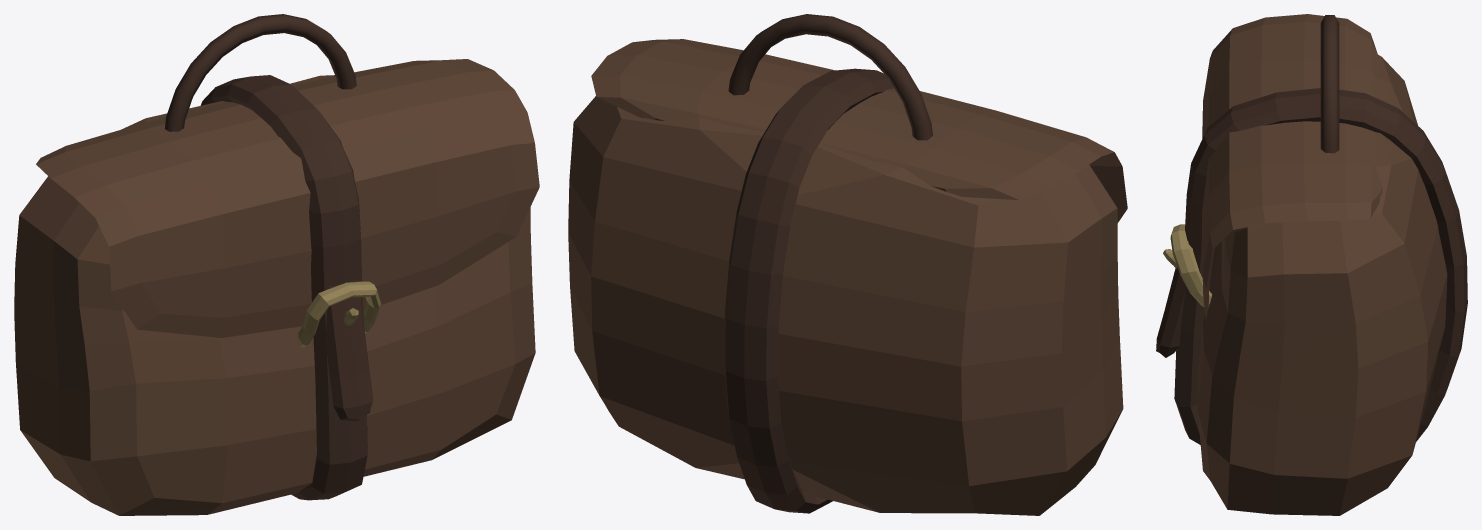
File: handbag-v1.glb
3 views of the same model, side by side, from view 1: azimuth 30°, elevation 25°; view 2: azimuth 150°, elevation 25°; view 3: azimuth 270°, elevation 25° (orthographic). The views are drawn at different scales.
Parts seen in each view (by area): view 1: Bag, Added short leather handle; view 2: Bag, Added short leather handle; view 3: Bag, Added short leather handle.
Part boxes in pixels (box(x1,y1,x2,y2)): Bag: box(14, 59, 539, 515); Added short leather handle: box(164, 14, 356, 131); Bag: box(568, 39, 1127, 515); Added short leather handle: box(728, 14, 932, 140); Bag: box(1156, 14, 1467, 515); Added short leather handle: box(1320, 15, 1339, 153).
Size of the model in its own units: 1 by 0.9231 by 0.607.
